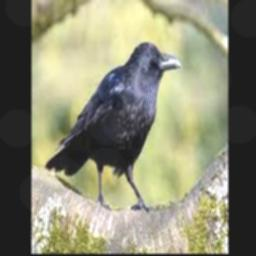Crow: (45, 42, 182, 212)
